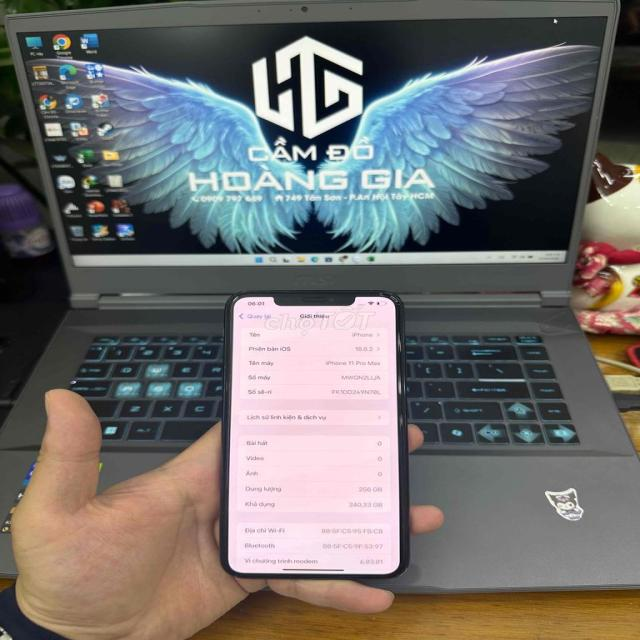gen_11: (220, 291, 408, 579)
